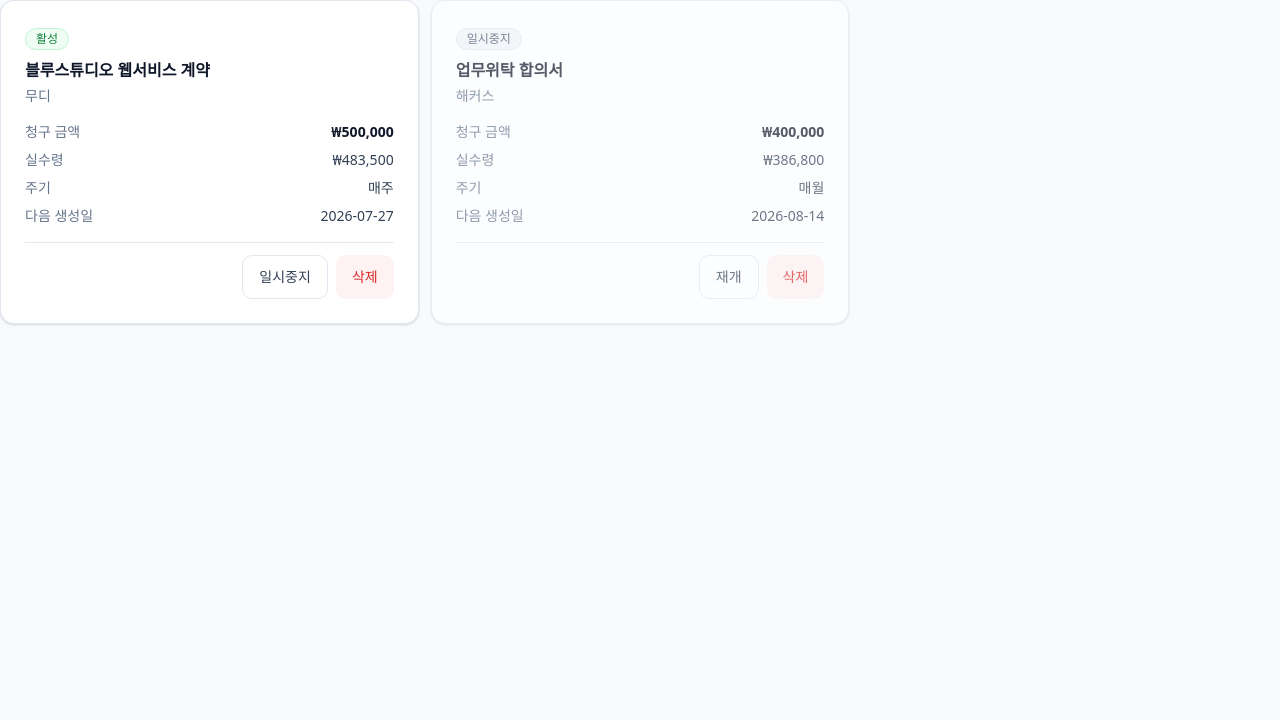
Test: RecurringScheduleList › keeps the schedule when the confirmation is cancelled
Click the button "삭제" below "2026-07-27" at (365, 277), box [336, 255, 394, 299]
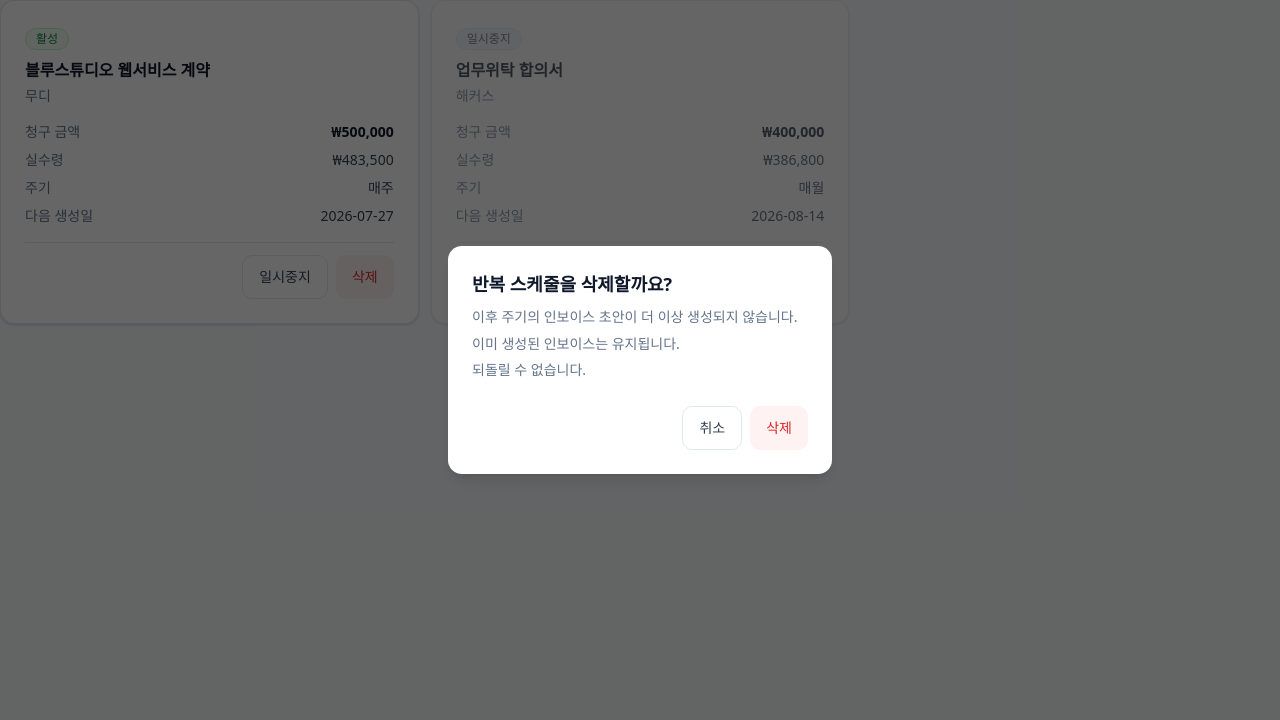
Click the button "취소" at (712, 428), box [682, 406, 742, 450]
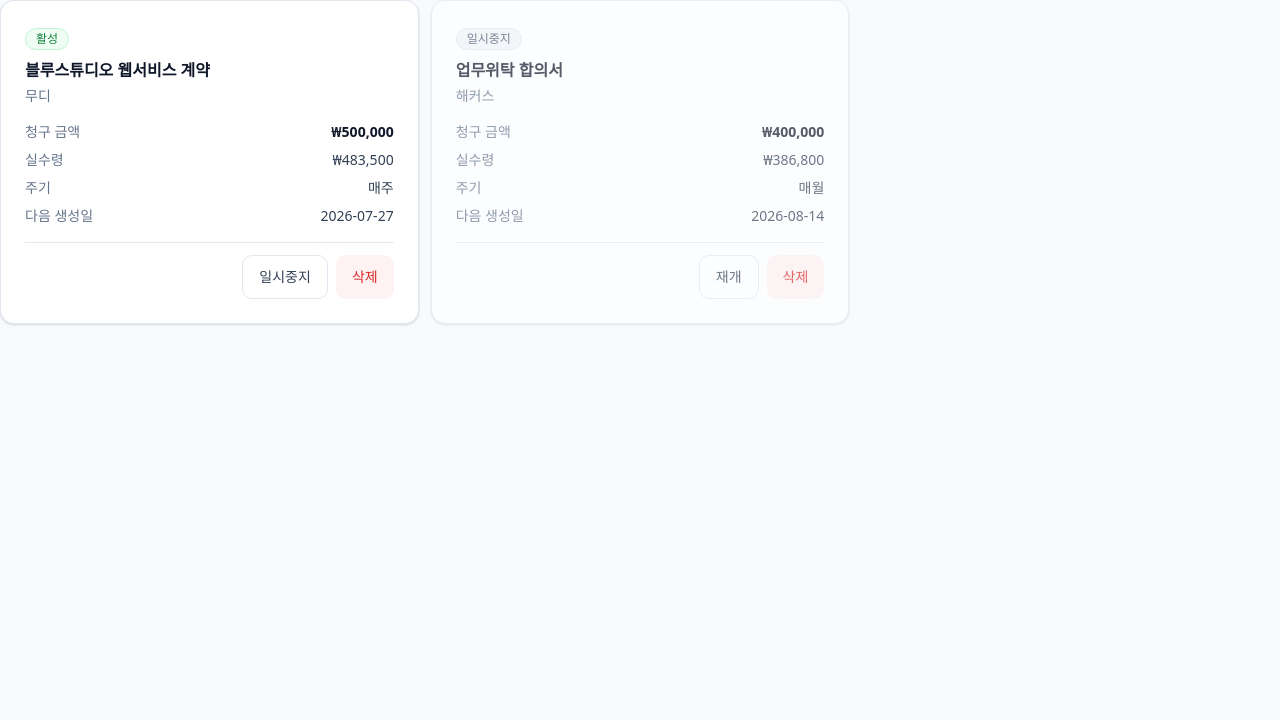
Now the dialog is gone
